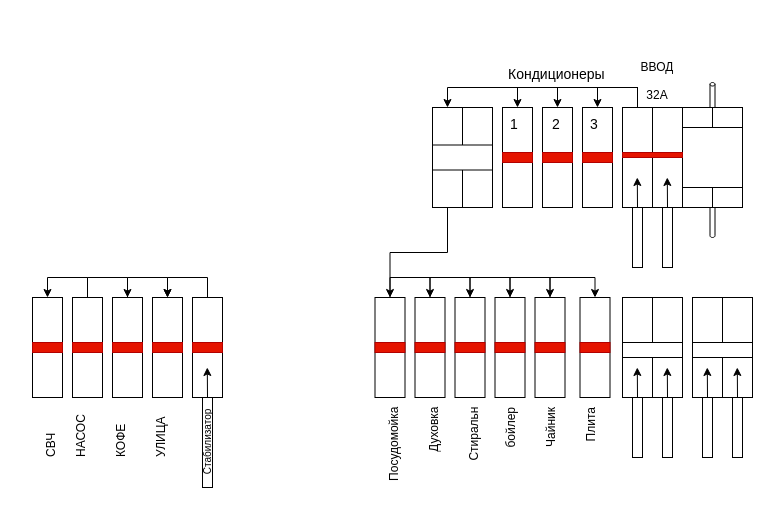
This 770x509 diagram has some shape labels left out. Each missing label, with the centre of its shape:
"220 V 11.2 A 1800 W" belongs at [712,157].
"УЗО" belongs at [462,157].
